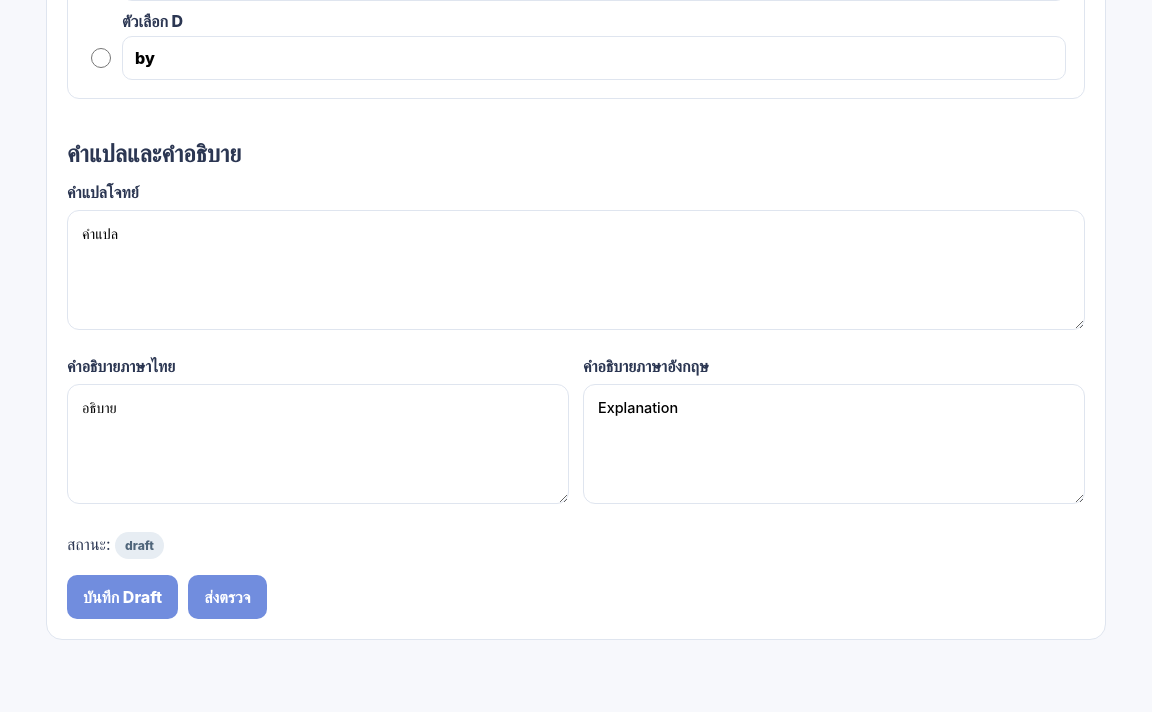
Test case: QuestionEditorPage › does not save when a choice is empty
(page scrolled)
Click the button "บันทึก Draft" at (123, 597), box x1=67 y1=575 x2=178 y2=619
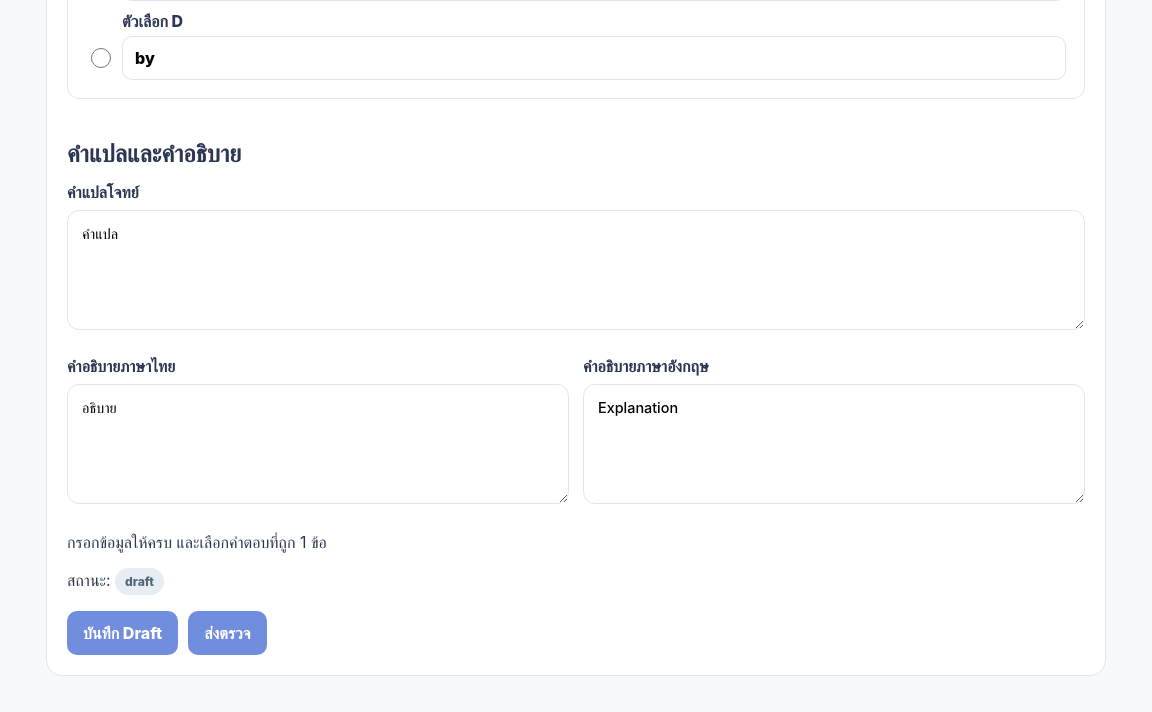
expect the message reads "กรอกข้อมูลให้ครบ และเลือกคำตอบที่ถูก 1 ข้อ": met, box x1=67 y1=532 x2=327 y2=552
